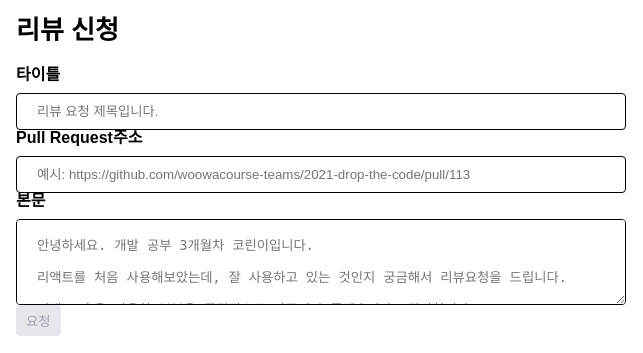
Test case: 리뷰 요청 컴포넌트 테스트 › 제목, 본문, pr주소가 유효한 경우 리뷰를 요청할 수 있다.
The width and height of the screenshot is (643, 353).
Type "리뷰요청" into the field labelled "타이틀". click: (321, 112)
box: [16,93,626,130]
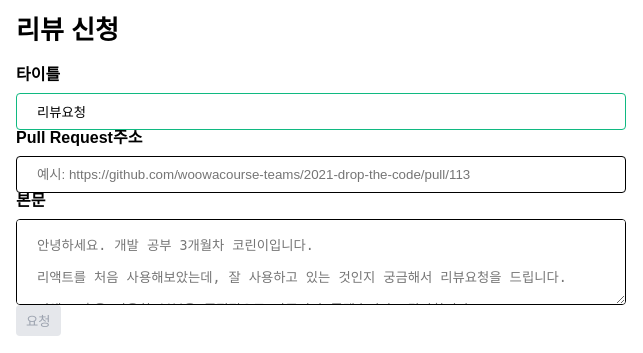
Replace the text in the field labelled "Pull Request주소" with "https://github.com/woowacourse-teams/2021-drop-the-code/pull/113". click: (321, 174)
box: [16,156,626,193]
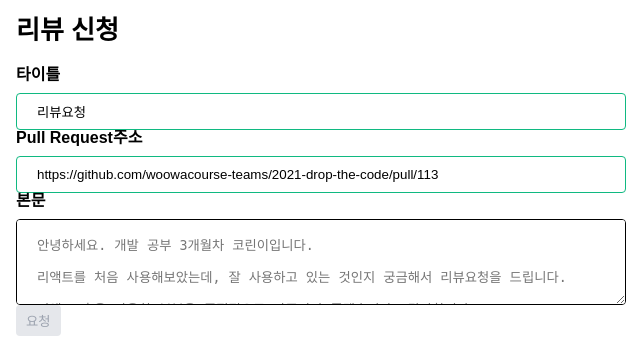
Replace the text in the text box labelled "본문" with "멋진리뷰 부탁드려요~". click: (321, 262)
box: [16,219,626,305]
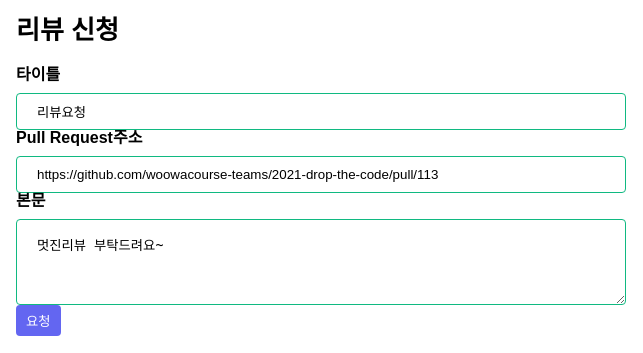
Expected: the button "요청" is enabled, [16,305,60,336]
